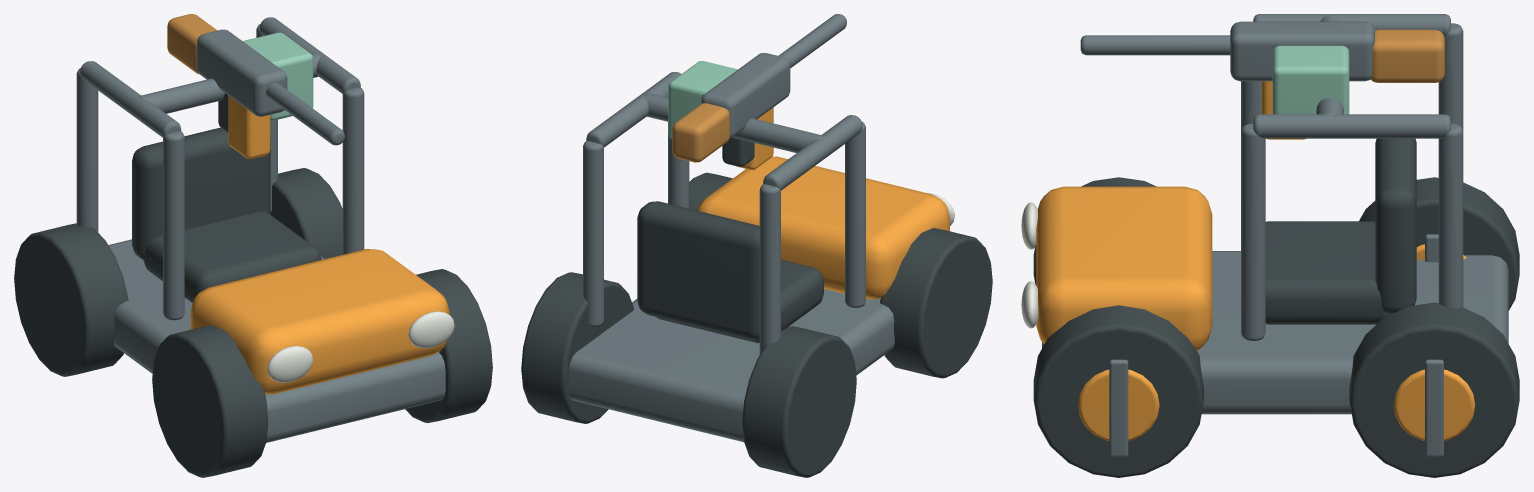
Rendered from buggy.glb.
3 views of the same model, side by side, from view 1: azimuth 30°, elevation 25°; view 2: azimuth 150°, elevation 25°; view 3: azimuth 270°, elevation 25° (orthographic). The views are drawn at different scales.
Parts seen in each view (by area): view 1: Buggy hood, Wheel pivot, Buggy chassis, Wheel pivot.001, Buggy seat back, Buggy seat, Wheel pivot.002, Receiver, Wheel pivot.003, Roll cage upright, Roll cage upright.002, Roll cage upright.001 (+10 smaller); view 2: Buggy chassis, Buggy hood, Buggy seat back, Wheel pivot.001, Wheel pivot, Wheel pivot.003, Receiver, Roll cage upright.003, Roll cage upright, Roll cage upright.001, Stock, Buggy seat (+9 smaller); view 3: Buggy hood, Buggy chassis, Wheel pivot.003, Wheel pivot.002, Buggy seat, Buggy seat back, Receiver, Wheel pivot.001, Roll cage upright.002, Ammo box, Roll cage rail.001, Roll cage upright.003 (+13 smaller).
Boxes of the visible parts, x1,y1,x2,y2 form: Buggy hood: [190, 249, 449, 394]; Wheel pivot: [152, 325, 268, 477]; Buggy chassis: [108, 239, 445, 442]; Wheel pivot.001: [14, 223, 128, 376]; Buggy seat back: [132, 127, 270, 260]; Buggy seat: [143, 211, 321, 302]; Wheel pivot.002: [405, 269, 492, 423]; Receiver: [197, 29, 287, 116]; Wheel pivot.003: [270, 168, 342, 258]; Roll cage upright: [163, 131, 184, 320]; Roll cage upright.002: [342, 87, 364, 254]; Roll cage upright.001: [76, 68, 98, 232]; Buggy chassis: [569, 289, 894, 442]; Buggy hood: [697, 156, 949, 299]; Buggy seat back: [637, 201, 759, 340]; Wheel pivot.001: [742, 326, 856, 477]; Wheel pivot: [880, 228, 992, 378]; Wheel pivot.003: [521, 272, 633, 423]; Receiver: [701, 53, 790, 138]; Roll cage upright.003: [583, 141, 603, 326]; Roll cage upright: [845, 122, 865, 307]; Roll cage upright.001: [759, 184, 780, 354]; Stock: [672, 103, 729, 162]; Buggy seat: [655, 259, 823, 343]; Buggy hood: [1036, 186, 1212, 350]; Buggy chassis: [1042, 251, 1508, 414]; Wheel pivot.003: [1349, 302, 1519, 477]; Wheel pivot.002: [1033, 305, 1203, 477]; Buggy seat: [1265, 221, 1389, 324]; Buggy seat back: [1375, 138, 1416, 314]; Receiver: [1230, 21, 1374, 81]; Wheel pivot.001: [1359, 177, 1519, 310]; Roll cage upright.002: [1241, 123, 1265, 340]; Ammo box: [1272, 45, 1349, 114]; Roll cage rail.001: [1253, 114, 1450, 138]; Roll cage upright.003: [1438, 123, 1463, 308].
Bounding box in the file's own units: 1.36 × 1.52 × 1.82.
